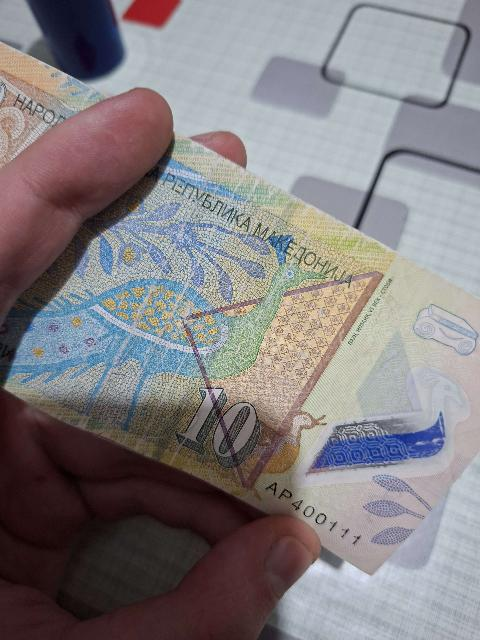10_note: (0, 136, 479, 574)
